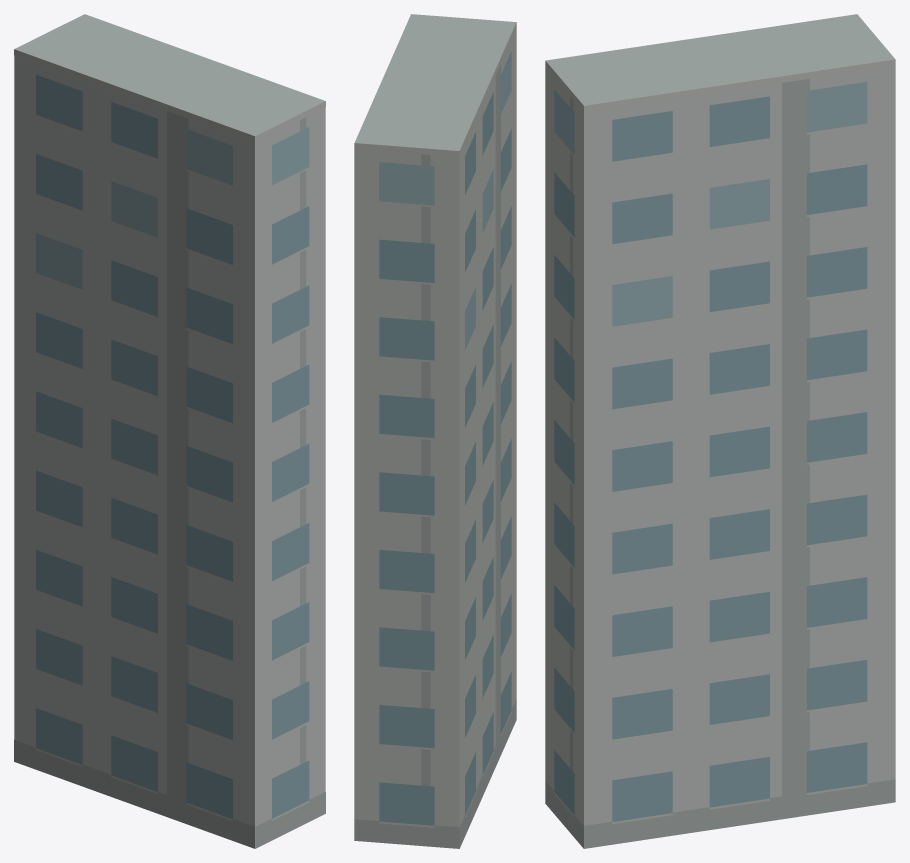
File: residential-1bdb09ce-1baf-48e2-88f8-cf826c8415ce.glb
3 views of the same model, side by side, from view 1: azimuth 30°, elevation 25°; view 2: azimuth 150°, elevation 25°; view 3: azimuth 270°, elevation 25° (orthographic). The views are drawn at different scales.
Visible parts, largest first — view 1: residential-1bdb09ce-1baf-48e2-88f8-cf826c8415ce.tmp; view 2: residential-1bdb09ce-1baf-48e2-88f8-cf826c8415ce.tmp; view 3: residential-1bdb09ce-1baf-48e2-88f8-cf826c8415ce.tmp.
Boxes of the visible parts, left/top/right/bottom form: residential-1bdb09ce-1baf-48e2-88f8-cf826c8415ce.tmp: left=14, top=14, right=325, bottom=848; residential-1bdb09ce-1baf-48e2-88f8-cf826c8415ce.tmp: left=354, top=14, right=516, bottom=848; residential-1bdb09ce-1baf-48e2-88f8-cf826c8415ce.tmp: left=545, top=14, right=895, bottom=848.
Size of the model in its own units: 7.29 by 27.45 by 11.73.
